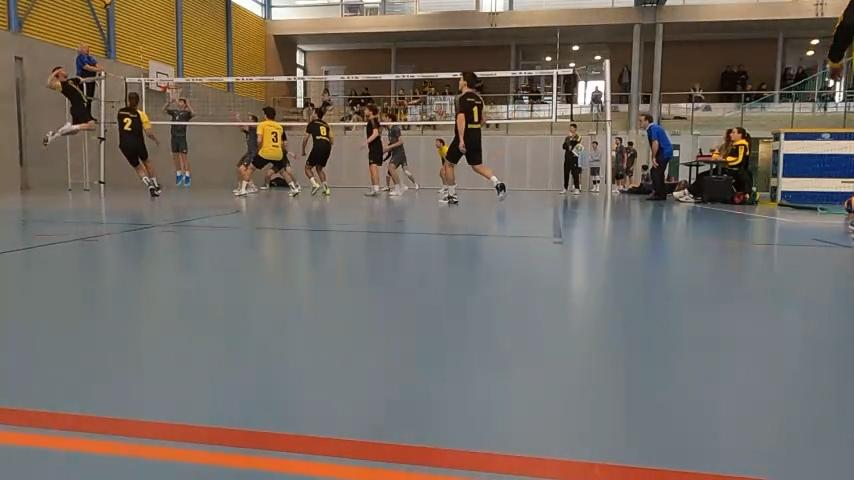attacco: (35, 63, 109, 147)
